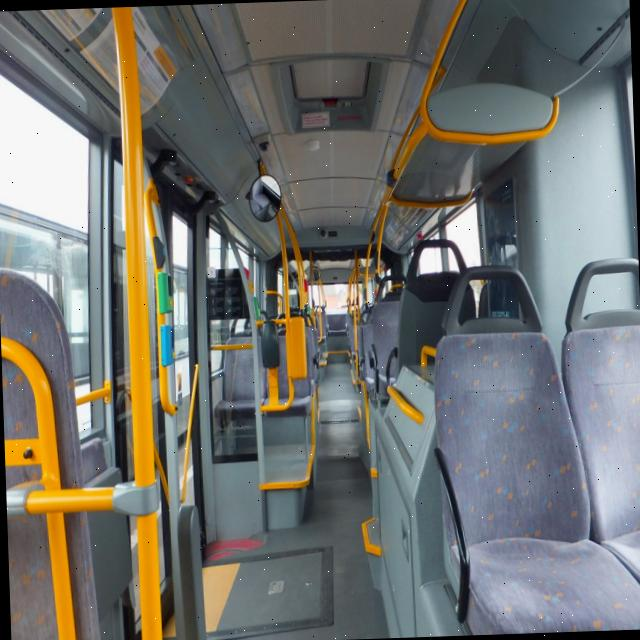empty-seat-frontal: (421, 259, 640, 636), (556, 256, 640, 631)
